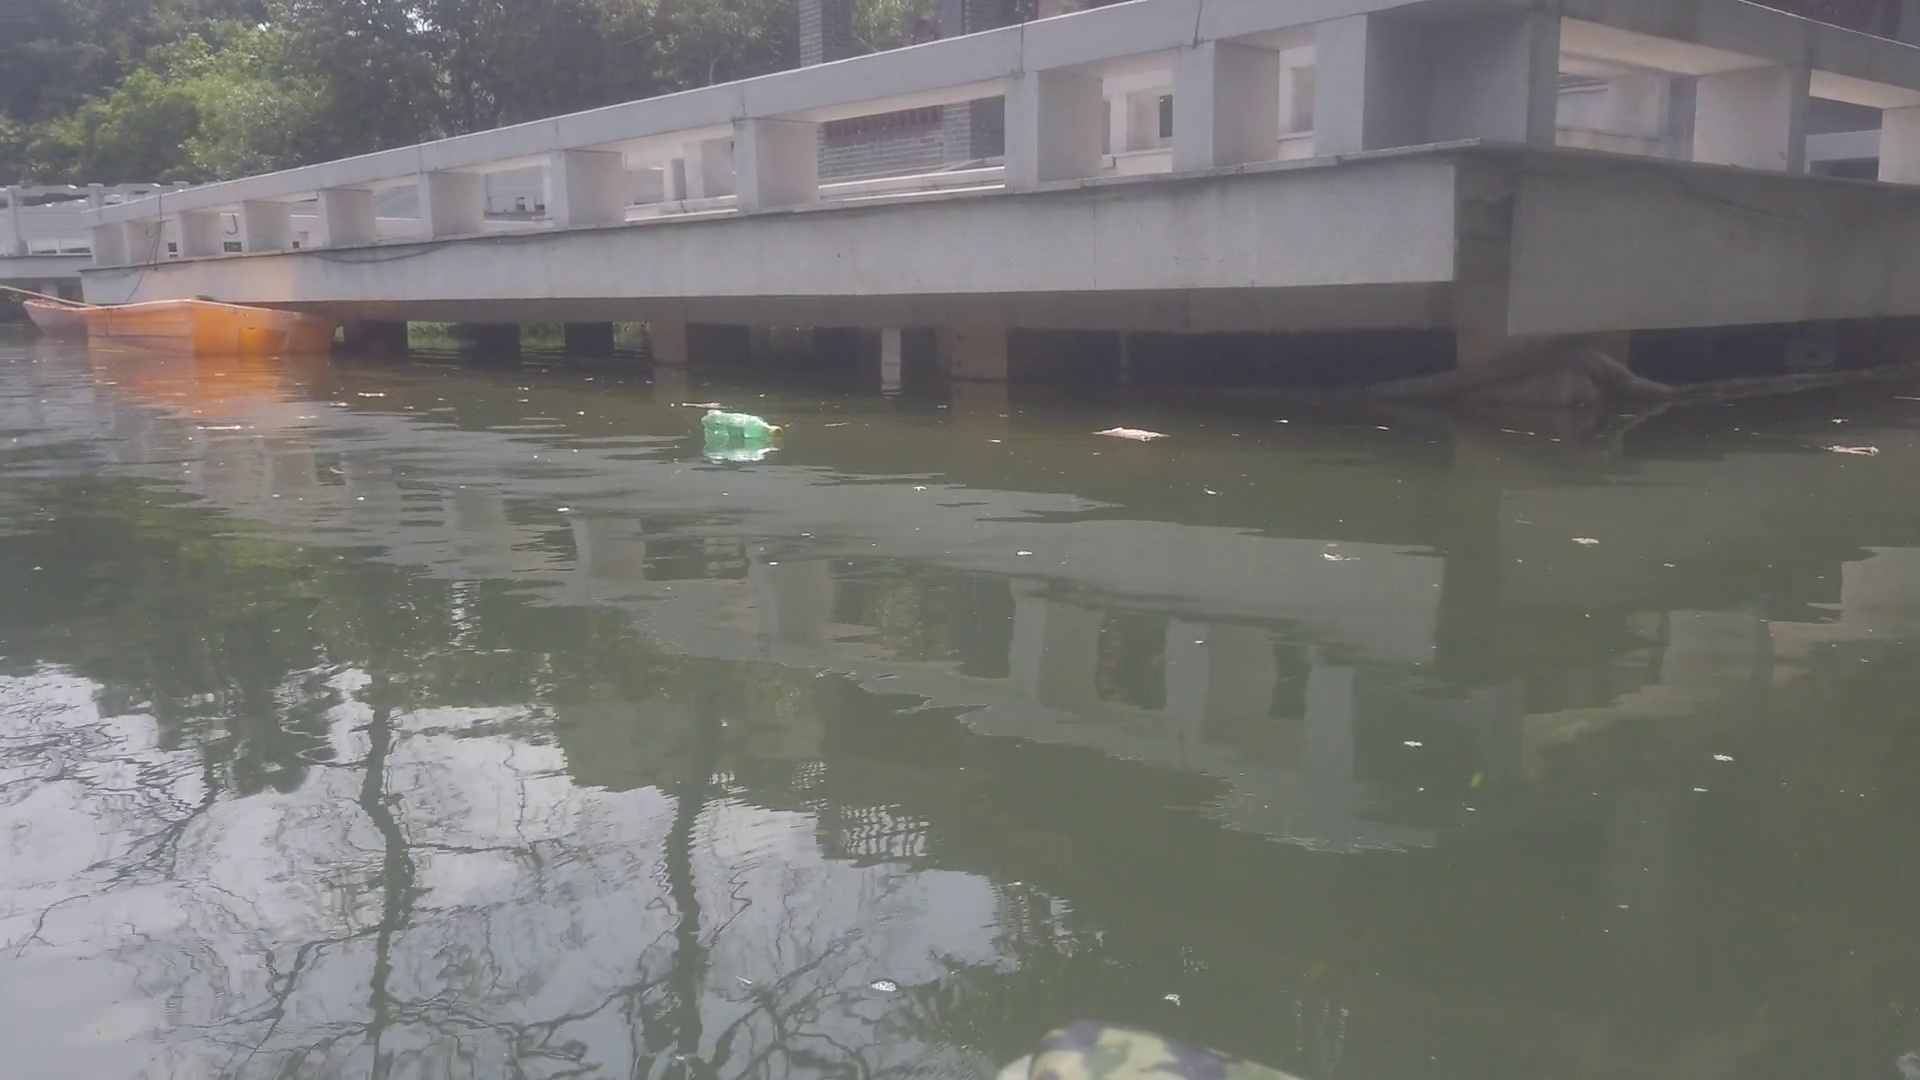bottle: (699, 407, 793, 443)
paper: (1087, 421, 1179, 444)
